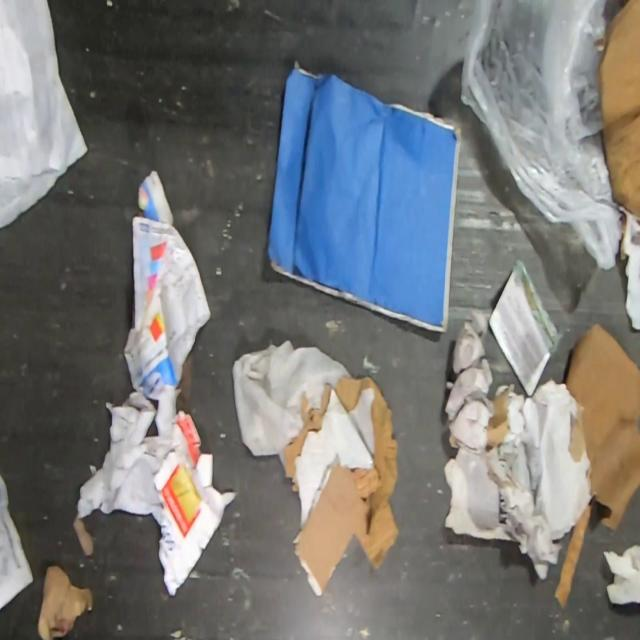cardboard: (262, 54, 464, 338), (484, 321, 640, 610), (284, 373, 399, 595), (596, 0, 640, 224)
soft_plastic: (460, 0, 623, 271)
